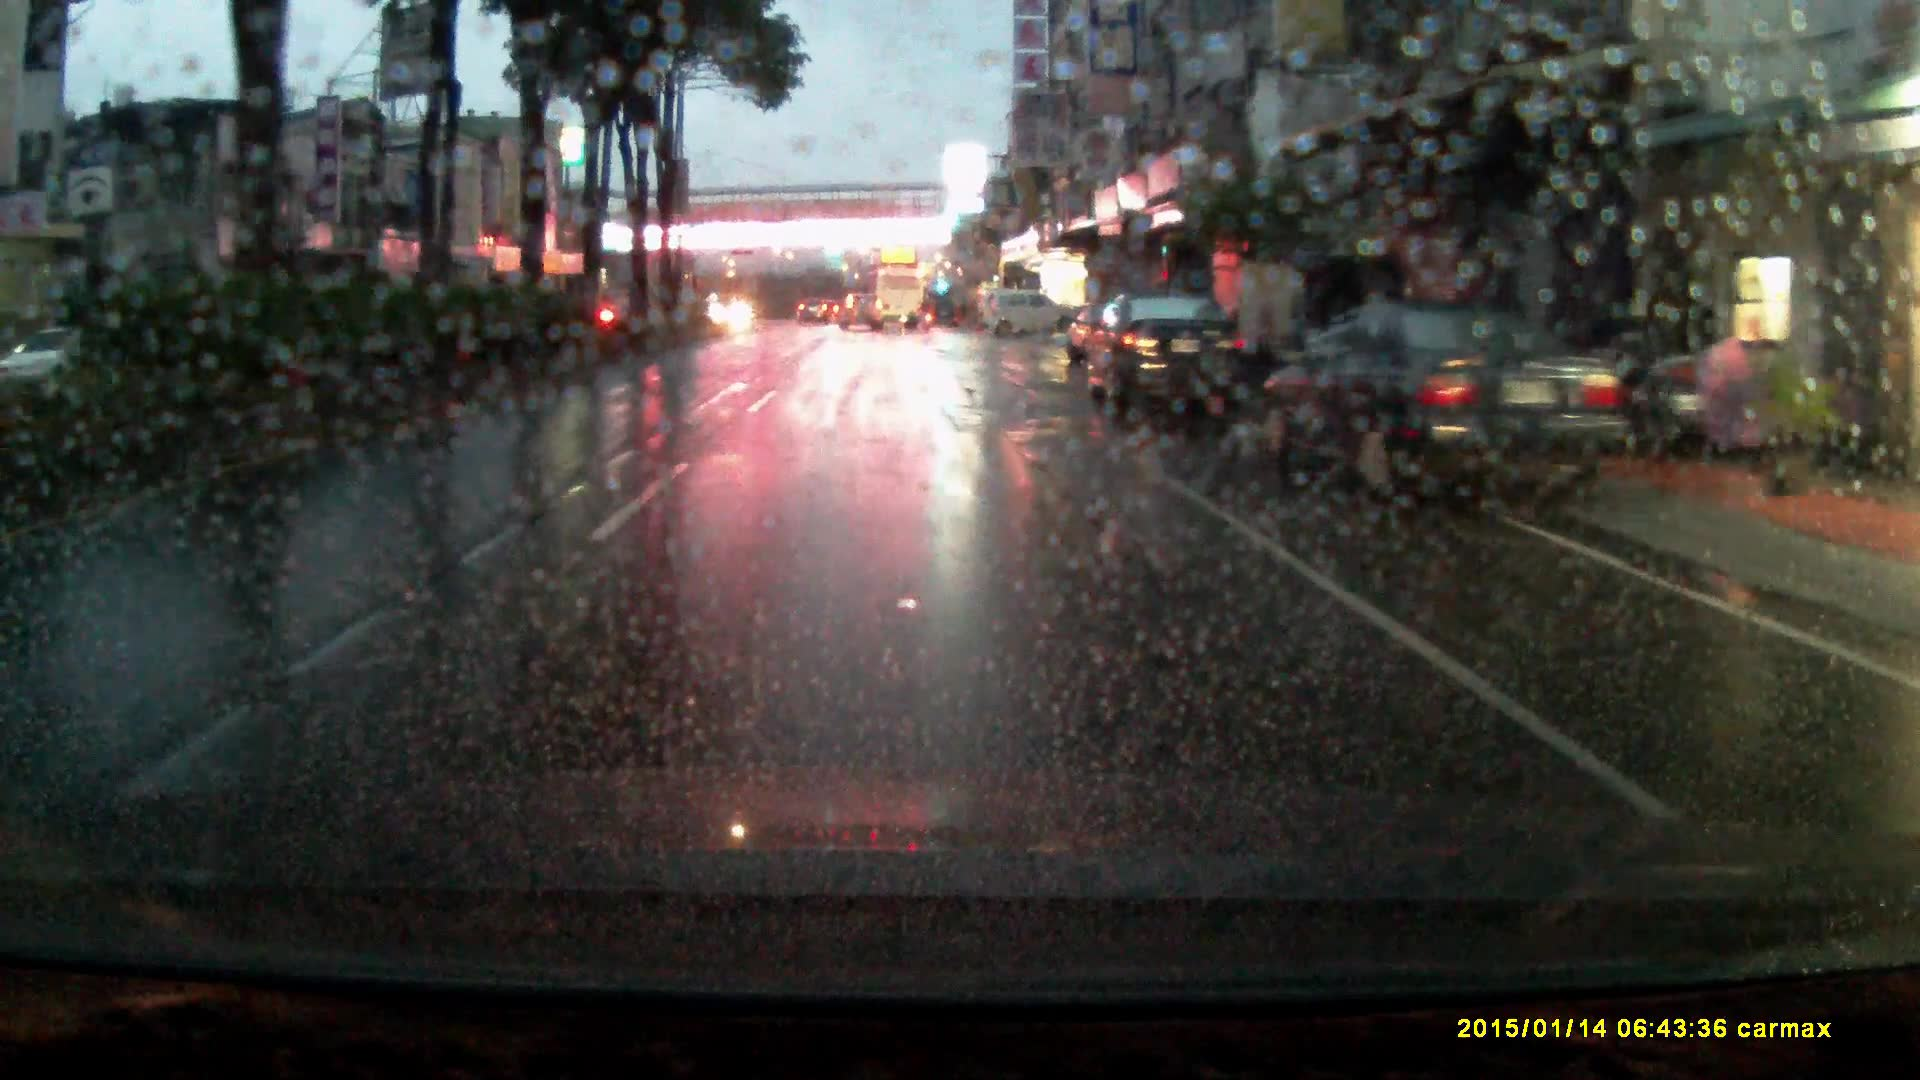vehicle: (1254, 305, 1640, 520), (1083, 287, 1253, 425), (988, 291, 1076, 343), (860, 268, 927, 334), (1065, 302, 1112, 368), (837, 295, 886, 338), (796, 299, 831, 328)
